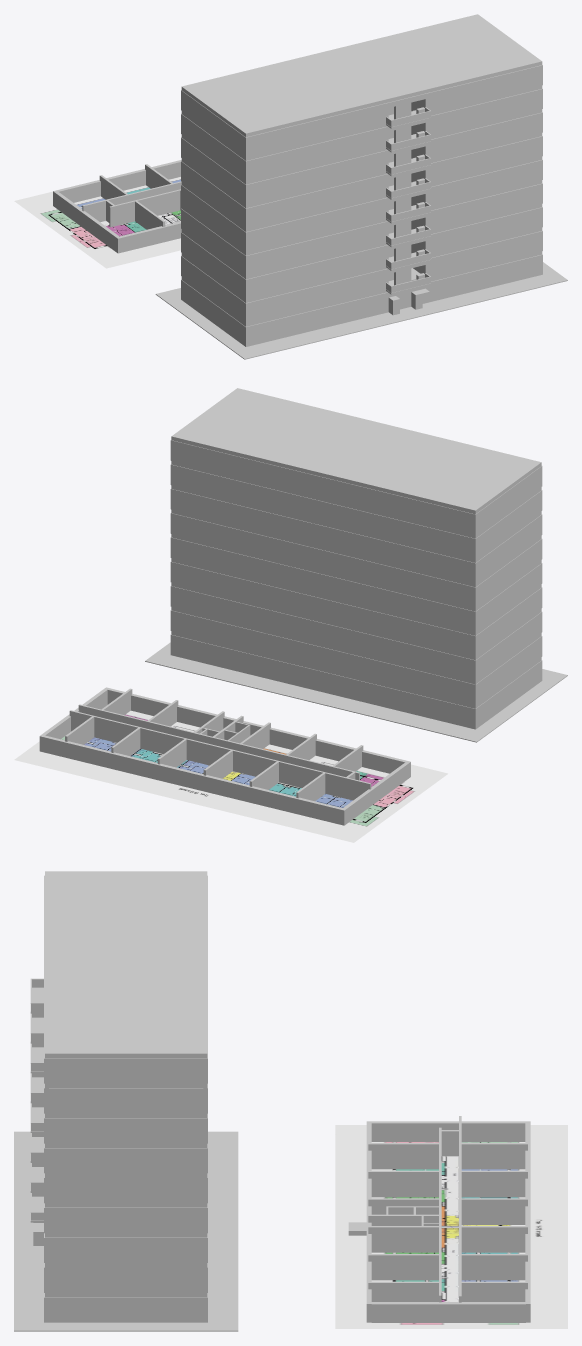
The model's file is House.glb.
The picture shows the model from 3 angles, top to bottom: view 1: azimuth 30°, elevation 25°; view 2: azimuth 150°, elevation 25°; view 3: azimuth 270°, elevation 25°; orthographic projection. The views are drawn at different scales.
Parts seen in each view (by area): view 1: Cube.362, Cube.337, Cube.200, Cube.306, Cube.130, Cube.213, Cube.244, Cube.293, Cube.169, Cube.009, Plane.001, Plane (+23 smaller); view 2: Cube.362, Plane, Cube.208, Cube.301, Cube.332, Cube.174, Cube.205, Cube.298, Cube.015, Cube.239, Cube.010, Plane.001 (+23 smaller); view 3: Cube.362, Plane, Plane.001, Cube.203, Cube.296, Cube.303, Cube.012, Cube.017, Cube.172, Cube.210, Cube.241, Cube.334 (+25 smaller).
Part boxes in pixels (x1,y1,x2,y2): Cube.362: (181, 14, 542, 137); Cube.337: (244, 65, 542, 157); Cube.200: (244, 183, 542, 275); Cube.306: (244, 88, 542, 181); Cube.130: (244, 231, 542, 323); Cube.213: (244, 160, 542, 252); Cube.244: (244, 136, 542, 228); Cube.293: (244, 112, 542, 204); Cube.169: (244, 207, 542, 299); Cube.009: (244, 254, 542, 346); Plane.001: (155, 262, 567, 359); Plane: (14, 177, 180, 268); Cube.362: (171, 388, 541, 514); Plane: (14, 710, 447, 842); Cube.208: (170, 537, 477, 632); Cube.301: (170, 464, 477, 559); Cube.332: (170, 440, 477, 534); Cube.174: (170, 586, 477, 680); Cube.205: (170, 561, 477, 656); Cube.298: (170, 489, 477, 583); Cube.015: (170, 610, 477, 705); Cube.239: (170, 513, 477, 607); Cube.010: (170, 634, 477, 729); Plane.001: (145, 642, 567, 742); Cube.362: (45, 871, 207, 1058); Plane: (335, 1125, 567, 1328); Plane.001: (14, 1131, 238, 1331); Cube.203: (49, 1207, 203, 1233); Cube.296: (49, 1118, 203, 1143); Cube.303: (49, 1088, 203, 1113); Cube.012: (49, 1297, 203, 1322); Cube.017: (49, 1267, 203, 1292); Cube.172: (49, 1237, 203, 1262); Cube.210: (49, 1178, 203, 1203); Cube.241: (49, 1148, 203, 1173); Cube.334: (49, 1058, 203, 1083).
Size of what is drawn, in the model's own units: 47.27 by 29.3 by 53.78.
1 material, 1 textured.
